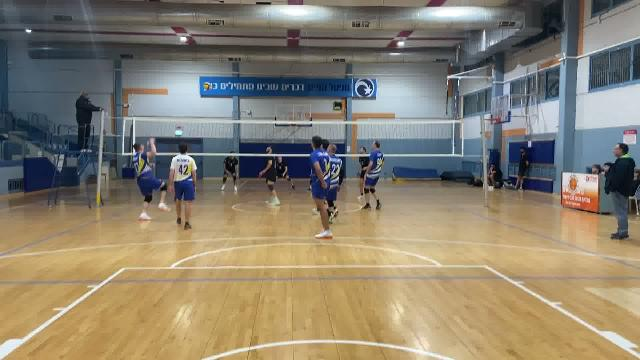ball: (199, 82, 216, 93)
